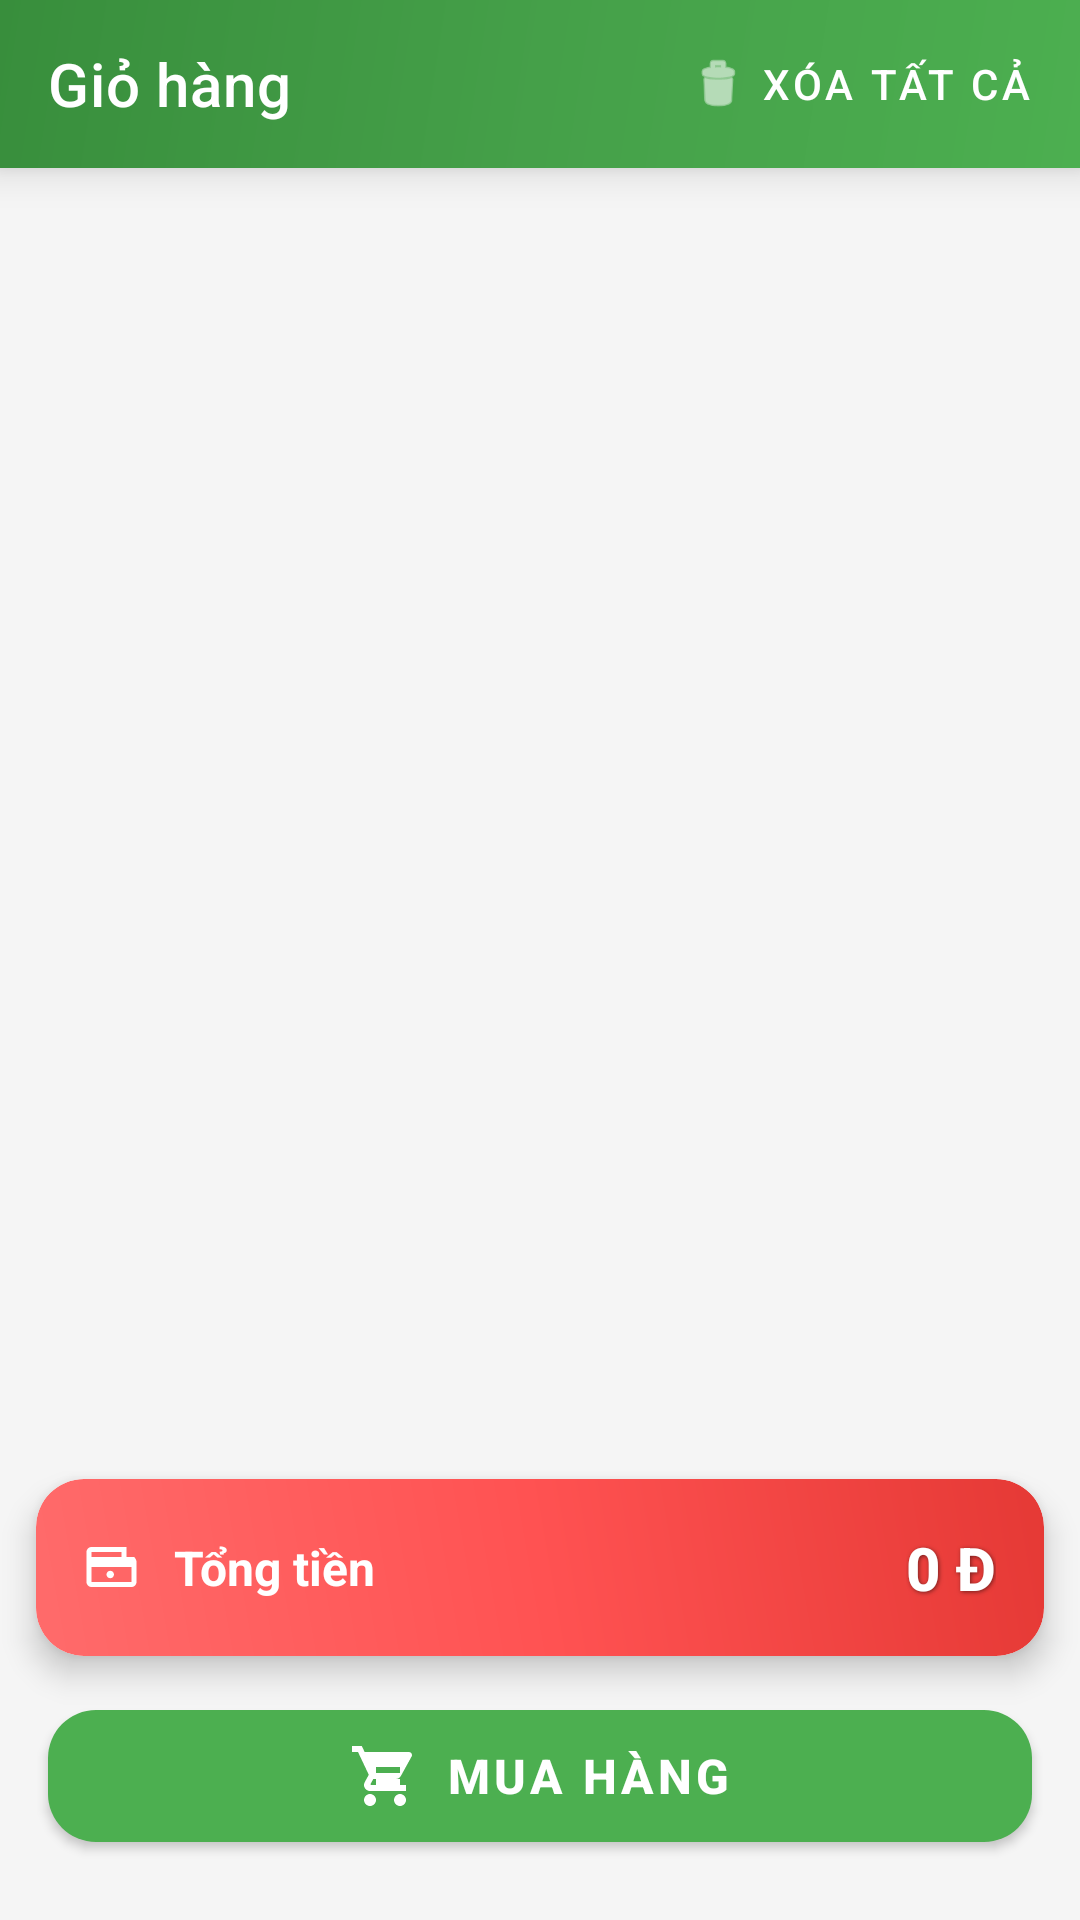

Point at icon controls on the screen. Image size 1080px x 1920px, points as [x,y].
payment: [111,1567]
